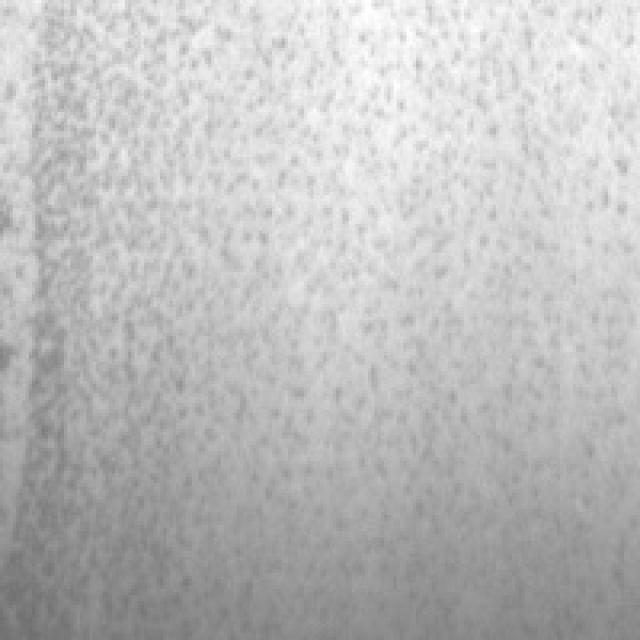pitted_surface: (19, 0, 637, 637)
